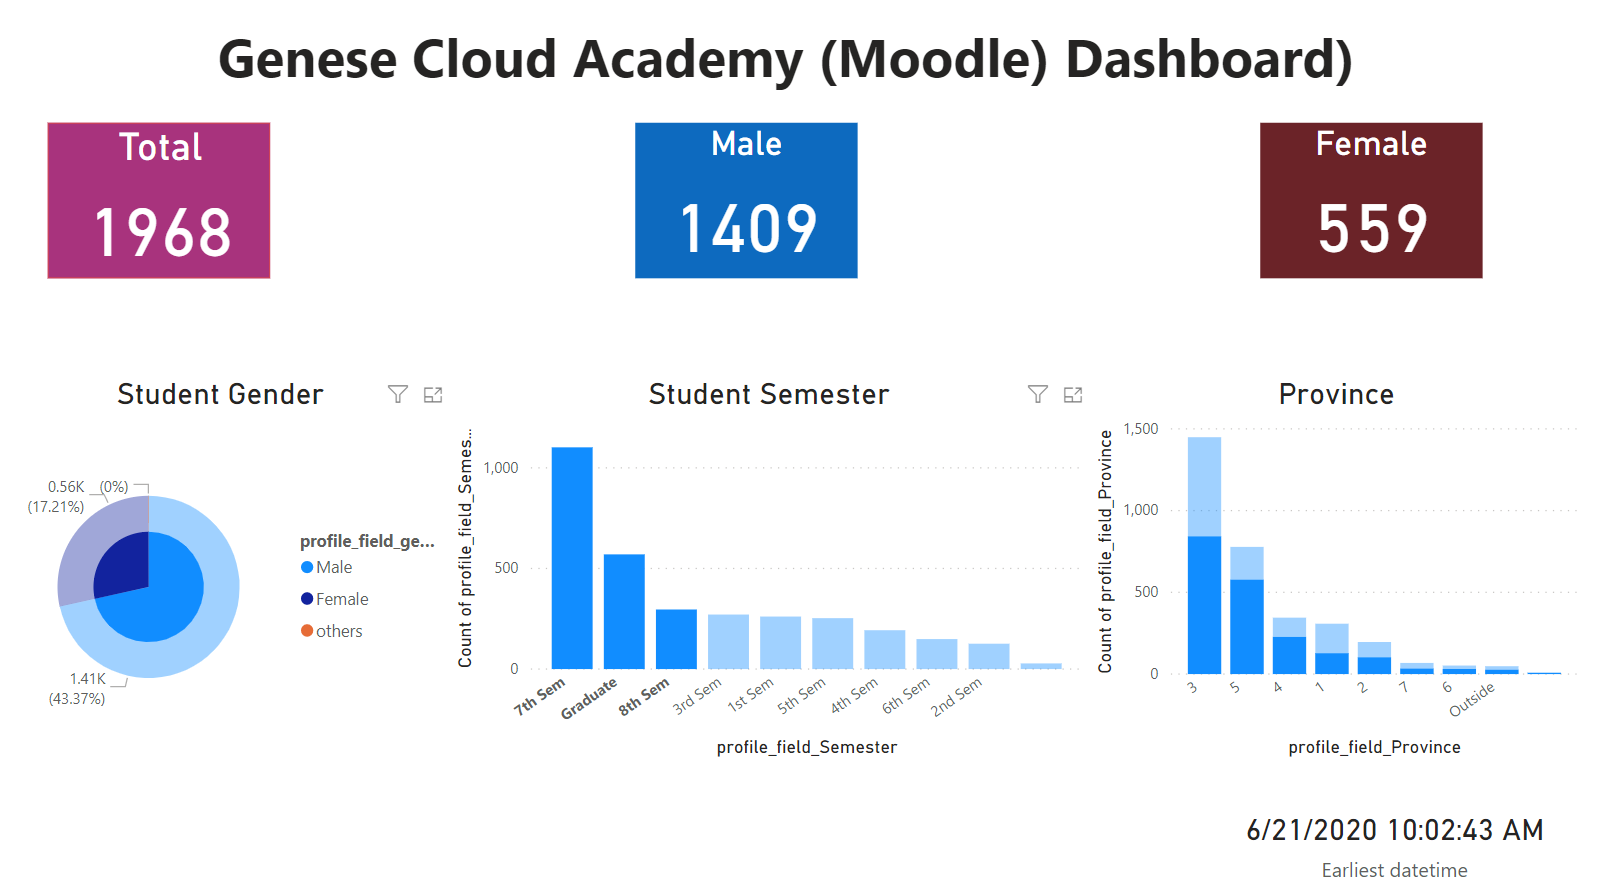

This screenshot's page, from the dashboard's own definition file:
{"tool":"powerbi","page":{"name":"Dashboard","canvas":[1280,720],"ordinal":0},"visuals":[{"type":"pieChart","title":"Student Gender","fields":{"Category":["user_latest.profile_field_gender1"],"Series":["user_latest.profile_field_gender1"],"Y":["CountNonNull(user_latest.profile_field_gender)"]},"box":[2.1,303.2,367.2,310.5],"z":0},{"type":"columnChart","title":"Student Semester","fields":{"Category":["user_latest.profile_field_Semester1"],"Y":["CountNonNull(user_latest.profile_field_Semester)1"]},"box":[369.4,303.2,513.4,310.5],"z":1000},{"type":"columnChart","title":"Province","fields":{"Category":["user_latest.profile_field_Province1"],"Y":["CountNonNull(user_latest.profile_field_Province)1"]},"box":[882.3,302.7,397.4,310.5],"z":2000},{"type":"card","title":"Total","fields":{"Values":["CountNonNull(user_latest.id)"]},"box":[47.1,98.8,178.8,124.4],"z":3000},{"type":"card","title":"Male","fields":{"Values":["CountNonNull(user_latest.profile_field_gender)"]},"box":[518.2,98.8,178.8,124.4],"z":4000},{"type":"card","title":"Female","fields":{"Values":["CountNonNull(user_latest.profile_field_gender)"]},"box":[1019.5,98.8,178.8,124.4],"z":5000},{"type":"textbox","box":[0,10.9,1279.3,72.5],"z":6000},{"type":"card","fields":{"Values":["Min(Kathmandu.datetime)"]},"box":[994.2,641.5,268.2,68.9],"z":7000}]}

Visuals, with their boxes in screenshot pixels (x1, y1, x2, y2), scaled from the page's 1280x720 canvas onto the 1597x892 screenshot:
"Student Gender" pieChart: {"x1": 3, "y1": 376, "x2": 461, "y2": 760}
"Student Semester" columnChart: {"x1": 461, "y1": 376, "x2": 1101, "y2": 760}
"Province" columnChart: {"x1": 1101, "y1": 375, "x2": 1596, "y2": 760}
"Total" card: {"x1": 59, "y1": 122, "x2": 282, "y2": 277}
"Male" card: {"x1": 647, "y1": 122, "x2": 870, "y2": 277}
"Female" card: {"x1": 1272, "y1": 122, "x2": 1495, "y2": 277}
textbox: {"x1": 0, "y1": 14, "x2": 1596, "y2": 103}
card - Min(Kathmandu.datetime): {"x1": 1240, "y1": 795, "x2": 1575, "y2": 880}
